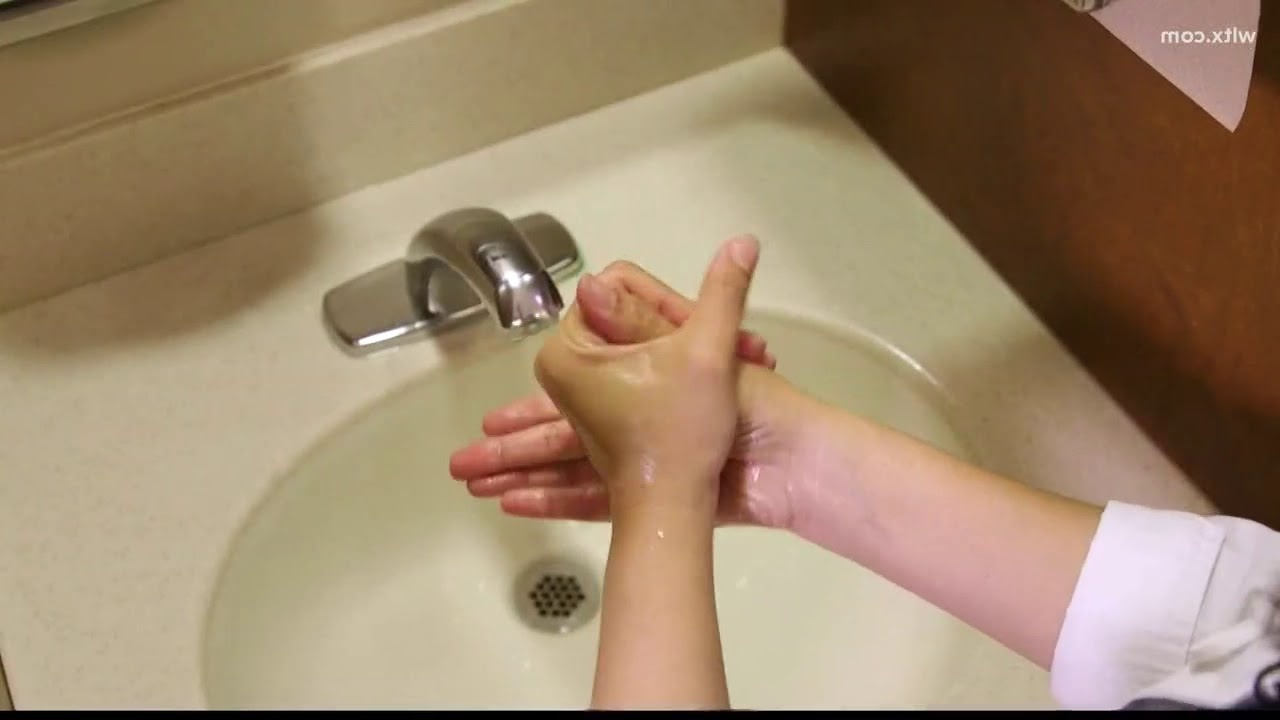washing hand: (278, 151, 788, 639)
